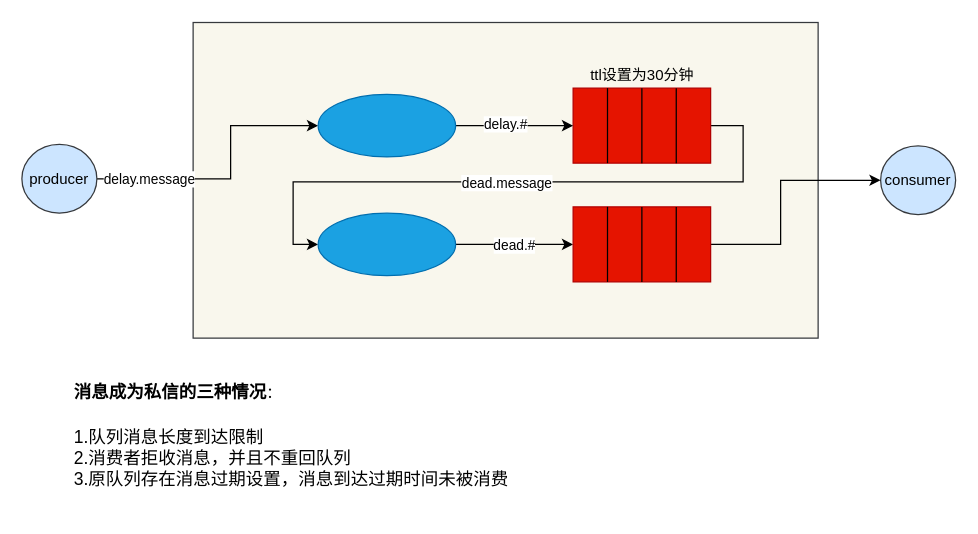
Image size: 978x534. Some labels were removed from this diagram. Here are the shapes that lost their labels. From the top down, the box of each, then its label:
(317, 93, 456, 157): Exchange
(317, 212, 456, 276): DLX Exchange
